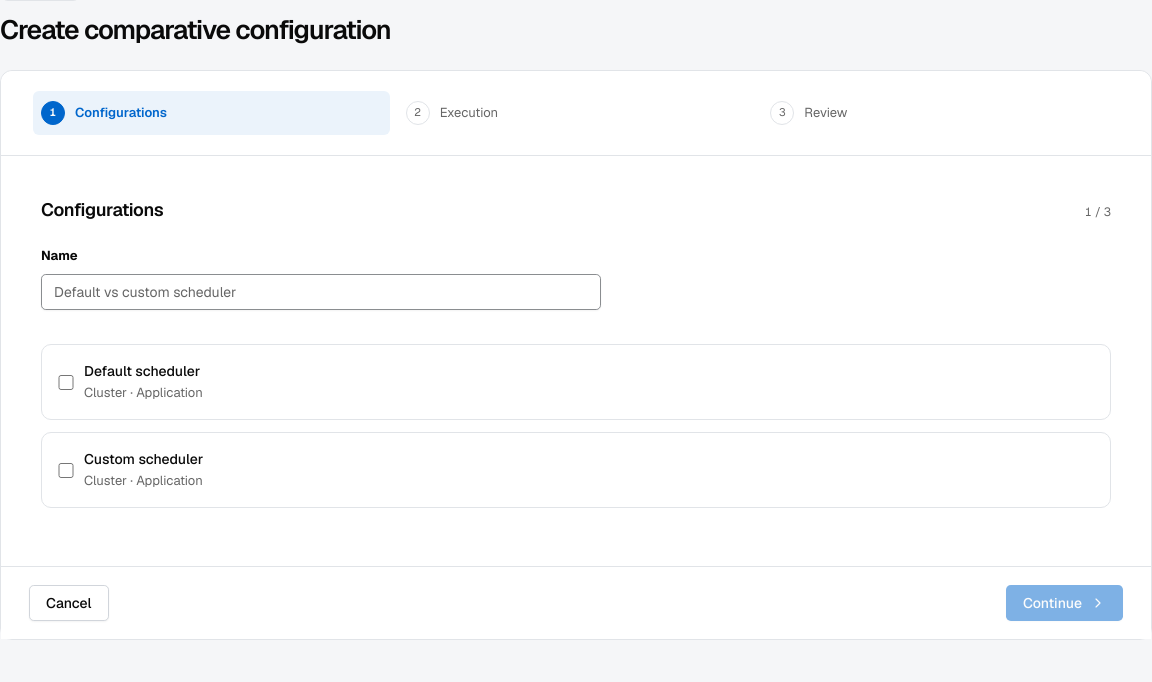
suite presentation › does not offer other suites as members and requires two single configurations
Expected: the button "Continue" is disabled, [1006,585,1123,621]
Step 1. Click the checkbox labelled "Default scheduler Cluster · Application" → (66, 382), box [58,374,74,390]
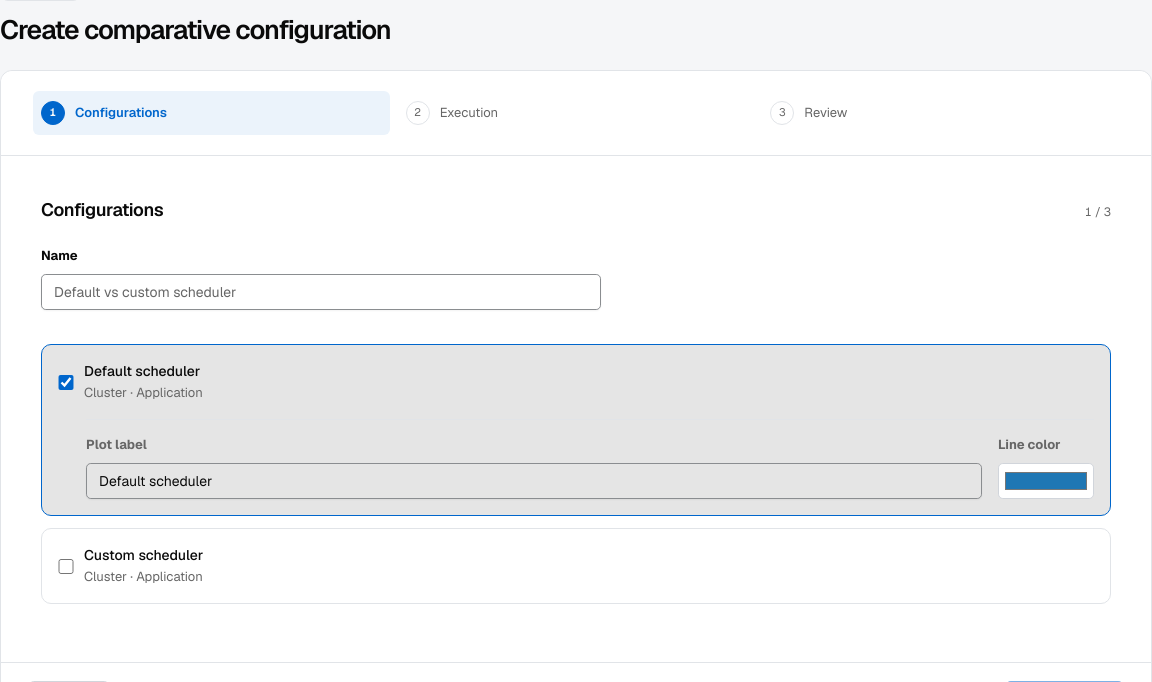
Step 2. Click the checkbox labelled "Custom scheduler Cluster · Application" → (66, 566), box [58,558,74,574]
(page scrolled)
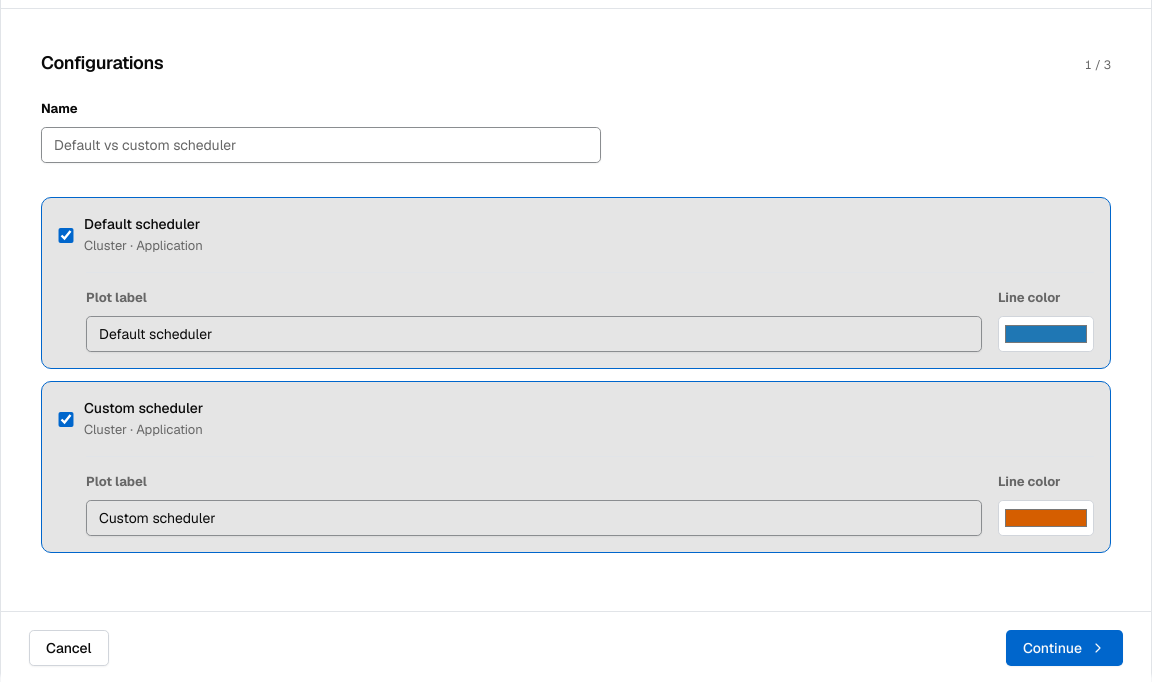
Expected: the button "Continue" is enabled, [1006,630,1123,666]
